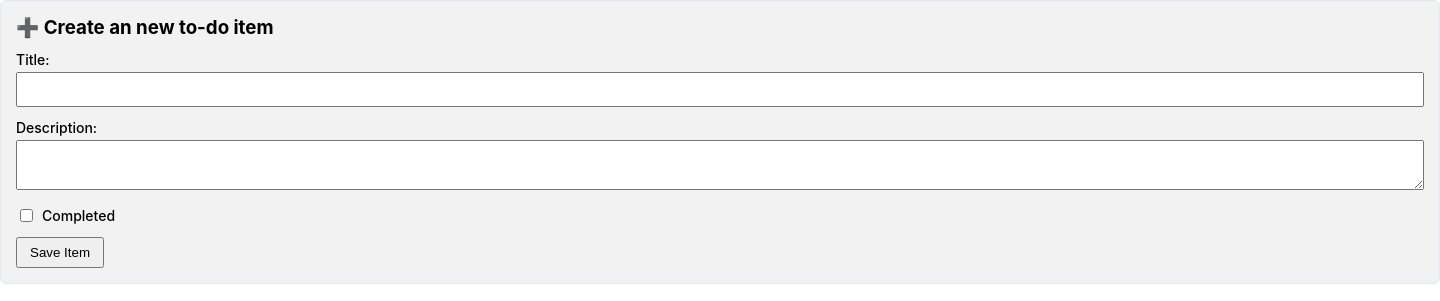
Scenario: TaskForm › create mode (editingTask = null) › resets all fields after a successful submit
Step 1. Type "Temp" into the field → (720, 90), box [16,72,1424,107]
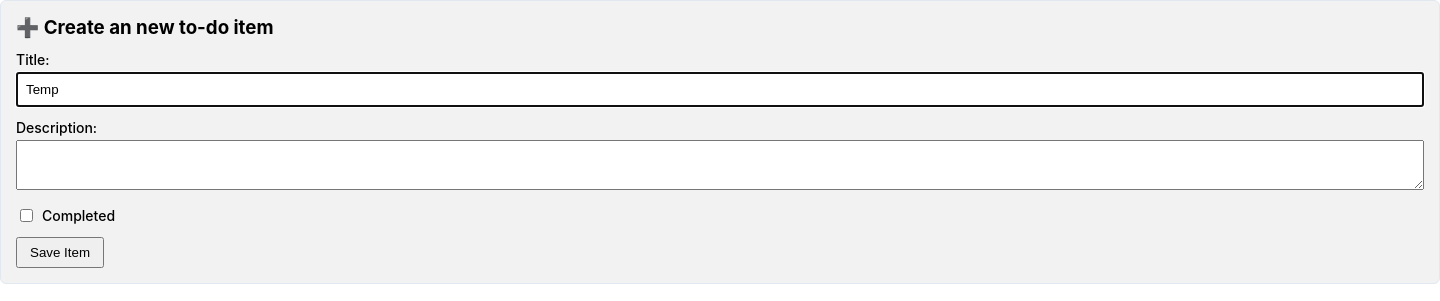
Step 2. Type "Temp description" into the text box → (720, 165), box [16,140,1424,190]
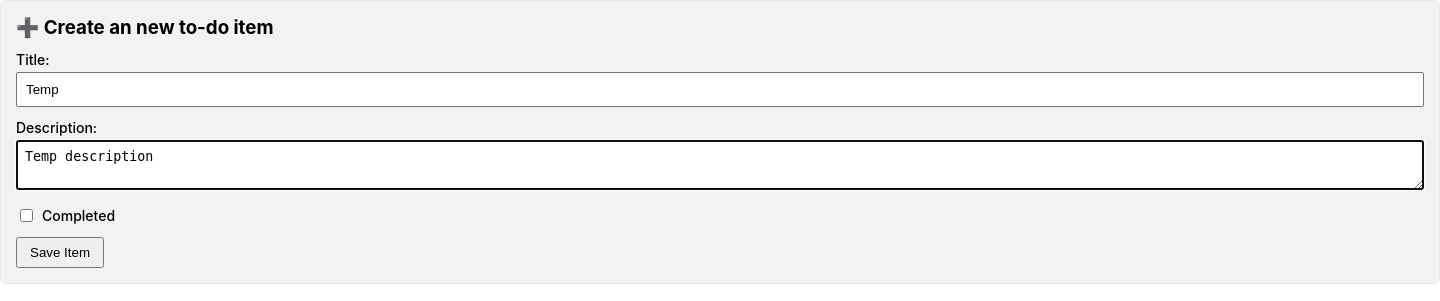
Step 3. Click the checkbox labelled "Completed" → (26, 216), box [20,209,33,222]
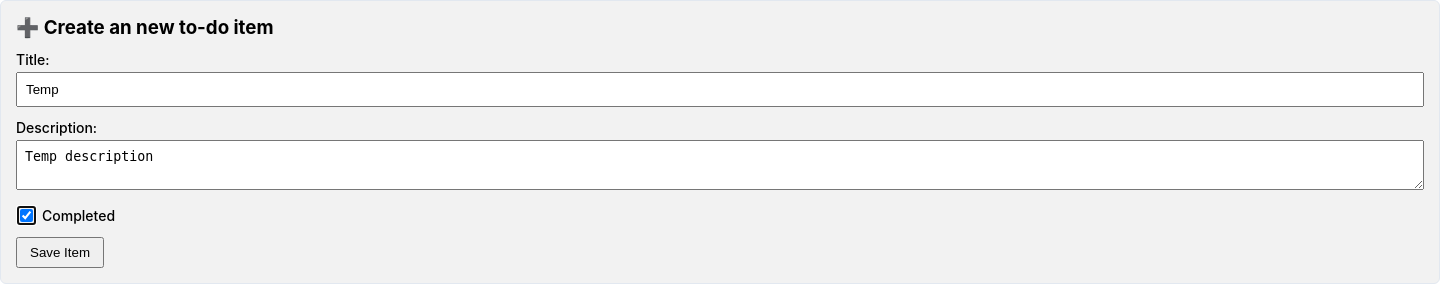
Step 4. Click the button "Save Item" → (60, 252), box [16,237,104,268]
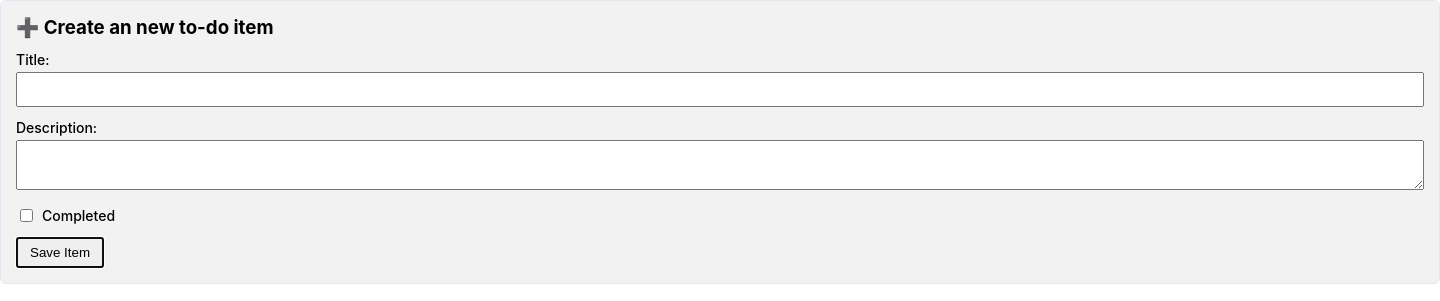
Result: the checkbox labelled "Completed" is not checked at [20,209,33,222]
Result: the text box is empty at [16,140,1424,190]
